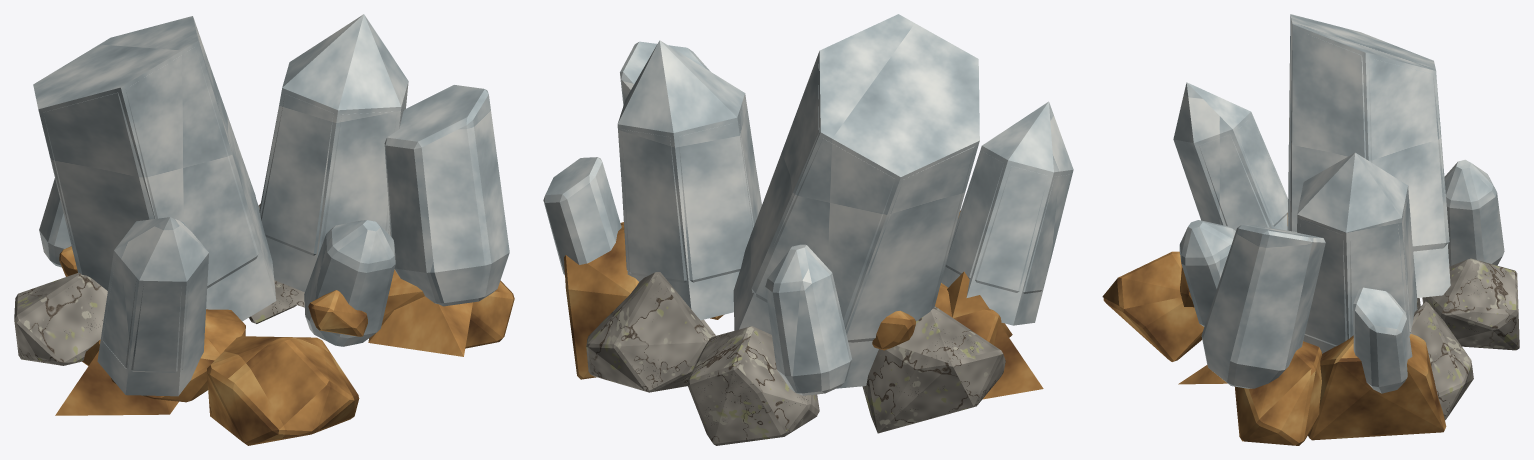
File: deposit-1.glb
The picture shows the model from 3 angles, left to right: view 1: azimuth 30°, elevation 25°; view 2: azimuth 150°, elevation 25°; view 3: azimuth 270°, elevation 25°; orthographic projection. The views are drawn at different scales.
Visible parts, largest first — view 1: MNR-deposit-1-mesh0, MNR-deposit-1-mesh1; view 2: MNR-deposit-1-mesh0, MNR-deposit-1-mesh1; view 3: MNR-deposit-1-mesh0, MNR-deposit-1-mesh1.
Boxes of the visible parts, box(x1,y1,x2,y2) form: MNR-deposit-1-mesh0: box(14, 18, 514, 445); MNR-deposit-1-mesh1: box(33, 14, 472, 415); MNR-deposit-1-mesh0: box(543, 18, 1070, 445); MNR-deposit-1-mesh1: box(617, 14, 1073, 399); MNR-deposit-1-mesh0: box(1102, 16, 1519, 445); MNR-deposit-1-mesh1: box(1173, 14, 1450, 384).
Bounding box in the file's own units: 0.6301 × 0.483 × 0.5886.
Materials: 3 (3 with a texture image).
